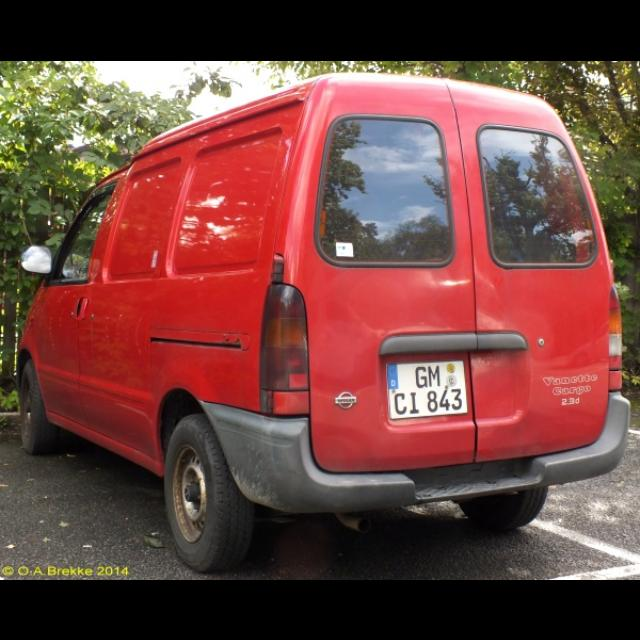d_license_plate: (387, 359, 468, 417)
